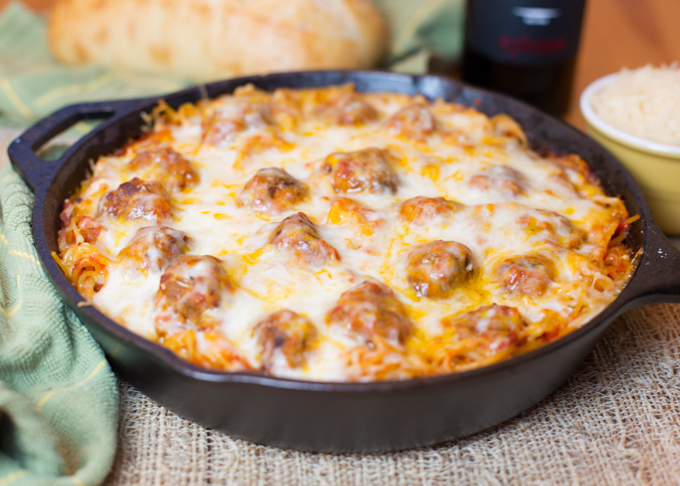meatballs: (338, 277, 402, 339), (252, 309, 316, 369), (325, 147, 391, 196), (412, 241, 469, 291), (127, 144, 194, 186), (162, 257, 217, 308), (280, 213, 332, 266), (125, 225, 185, 265), (468, 304, 522, 346), (245, 166, 296, 208), (114, 180, 165, 217), (505, 254, 549, 292)
